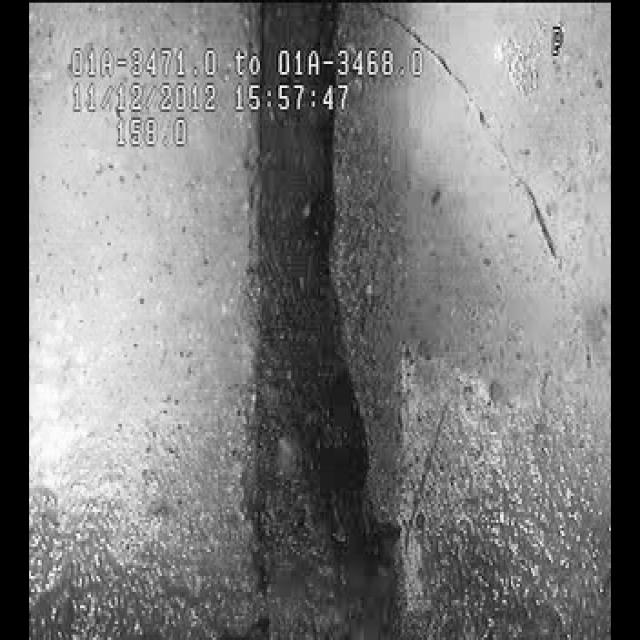Crack: (460, 96, 573, 260)
